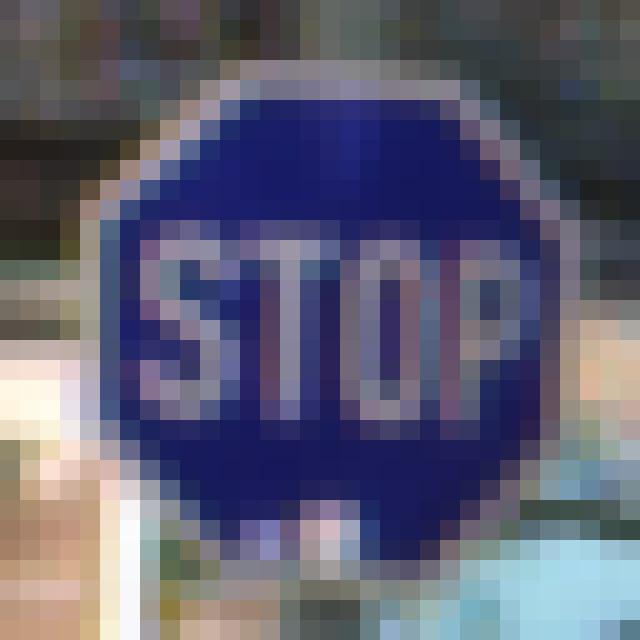STOP: (91, 83, 562, 582)
